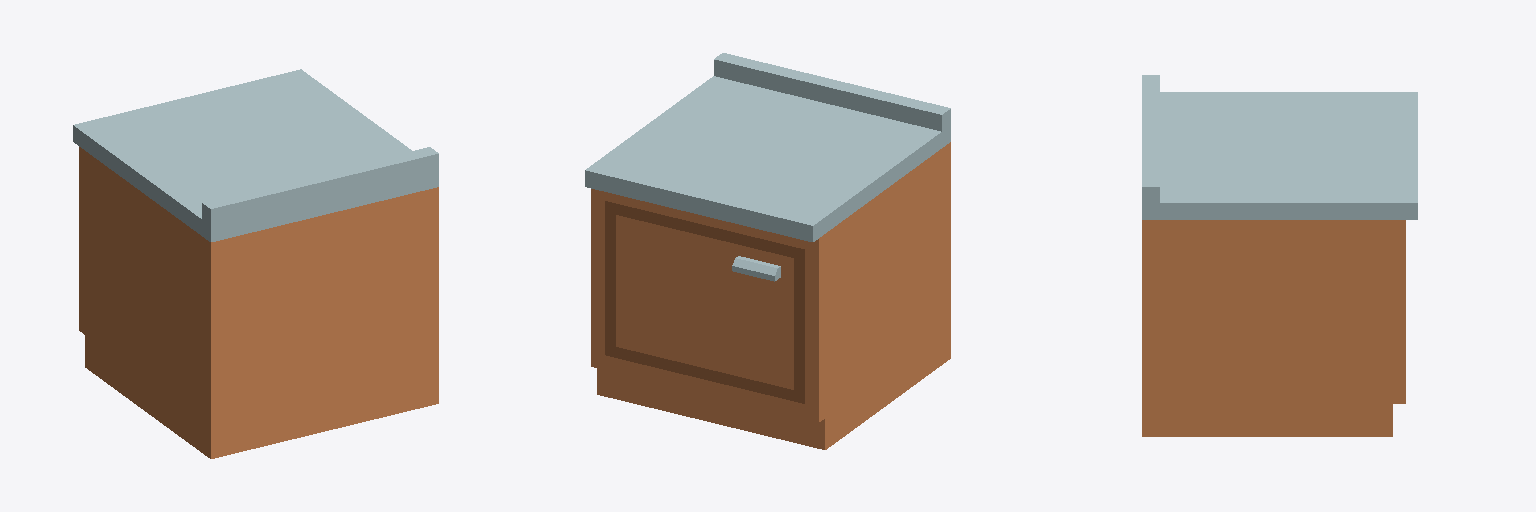
The picture shows the model from 3 angles: view 1: azimuth 30°, elevation 25°; view 2: azimuth 150°, elevation 25°; view 3: azimuth 270°, elevation 25°; orthographic projection.
Parts seen in each view (by area): view 1: kitchenCabinet; view 2: kitchenCabinet, door; view 3: kitchenCabinet.
Part boxes in pixels (left/top/right/bottom): kitchenCabinet: left=73, top=69, right=438, bottom=458; kitchenCabinet: left=585, top=53, right=950, bottom=449; door: left=605, top=201, right=804, bottom=403; kitchenCabinet: left=1142, top=75, right=1417, bottom=436.
Bounding box in the file's own units: 0.9556 × 1 × 1.